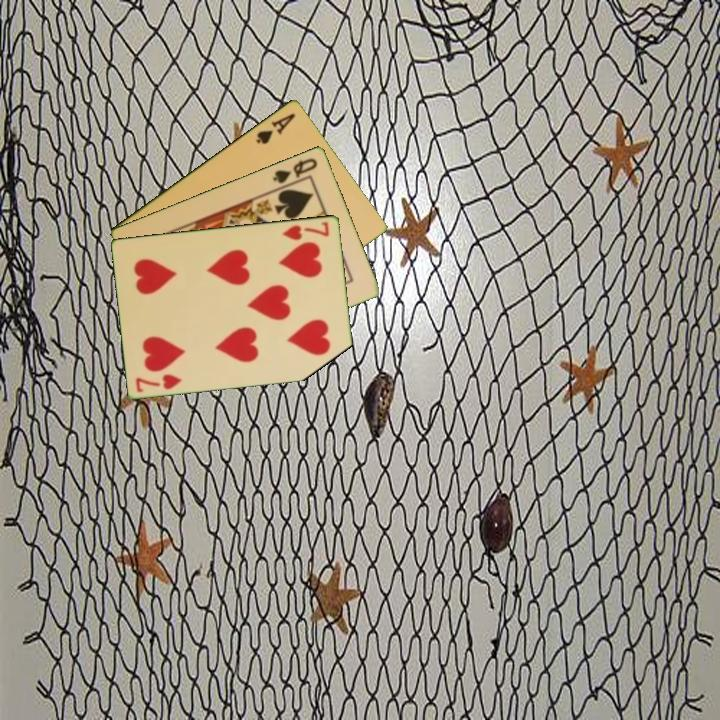7h: (132, 370, 185, 395), (280, 218, 332, 243)
As: (252, 109, 298, 147)
Qs: (269, 154, 320, 186)
